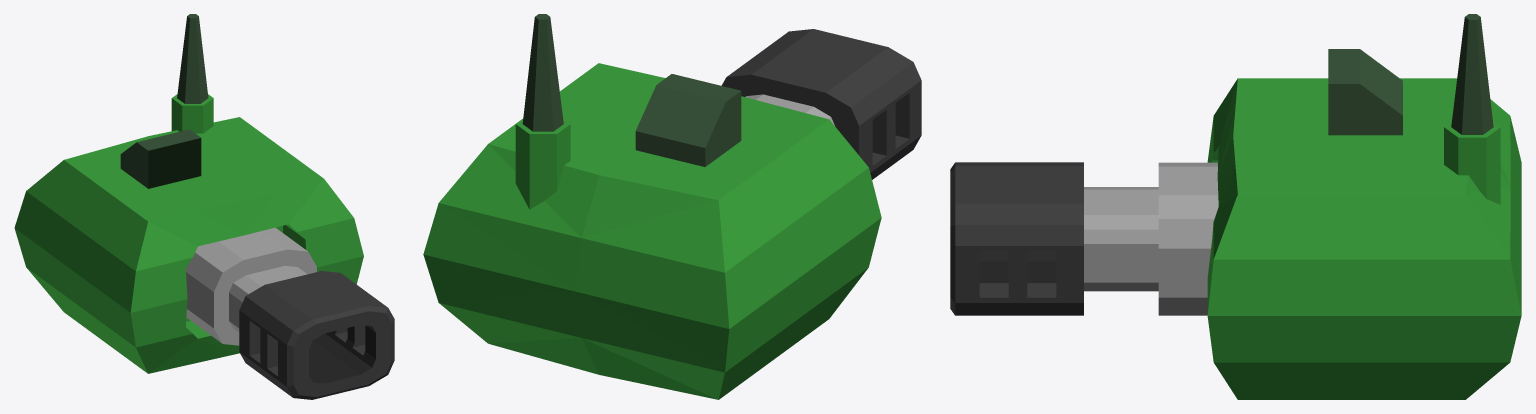
Rendered from one_cannon.fbx.
3 views of the same model, side by side, from view 1: azimuth 30°, elevation 25°; view 2: azimuth 150°, elevation 25°; view 3: azimuth 270°, elevation 25° (orthographic). The views are drawn at different scales.
Parts seen in each view (by area): view 1: Cube.002, Cube.006, Cube.009, Circle; view 2: Cube.002, Cube.006, Cube.009, Circle; view 3: Cube.002, Cube.006, Circle, Cube.009.
Part boxes in pixels (x1,y1,x2,y2): Cube.002: (14, 117, 363, 373); Cube.006: (186, 227, 394, 399); Cube.009: (120, 129, 201, 188); Circle: (171, 14, 213, 133); Cube.002: (423, 63, 881, 399); Cube.006: (721, 29, 921, 179); Cube.009: (635, 74, 741, 166); Circle: (515, 14, 570, 209); Cube.002: (1207, 78, 1521, 399); Cube.006: (950, 162, 1218, 315); Circle: (1444, 14, 1500, 204); Cube.009: (1328, 49, 1402, 135).
Size of the model in its own units: 94.08 by 101 by 148.
